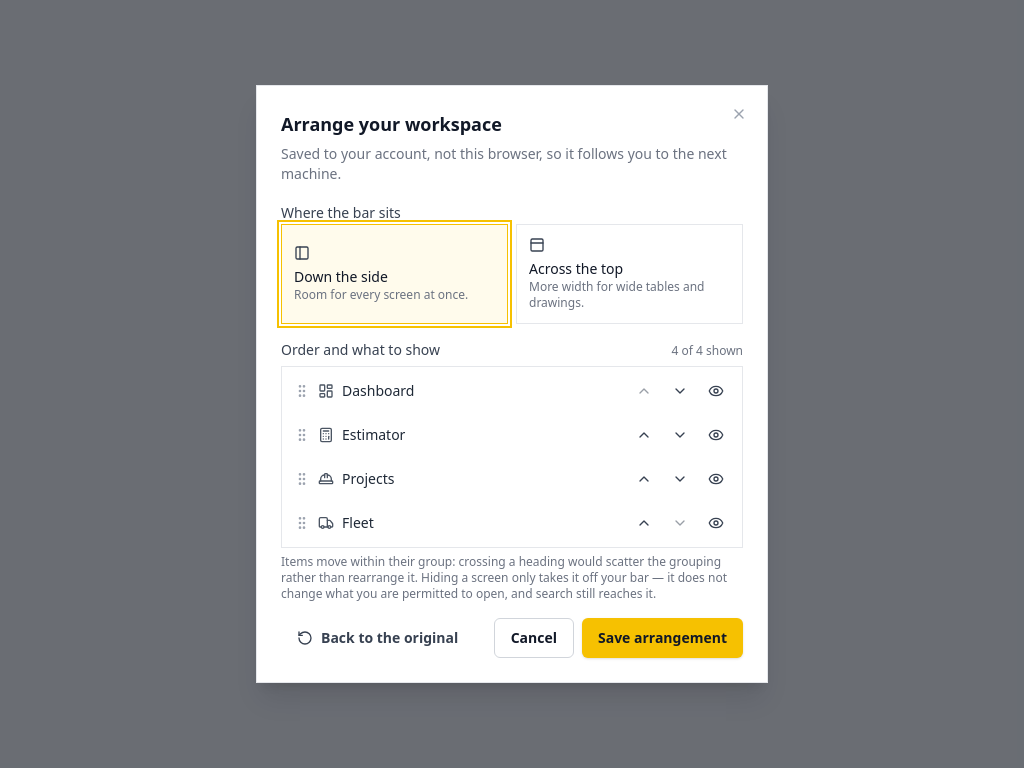
Test: the arrange dialog › hides an item without pretending it was taken away
The width and height of the screenshot is (1024, 768).
Click the button named "Hide Projects".
click(716, 479)  # box [702,465,730,493]
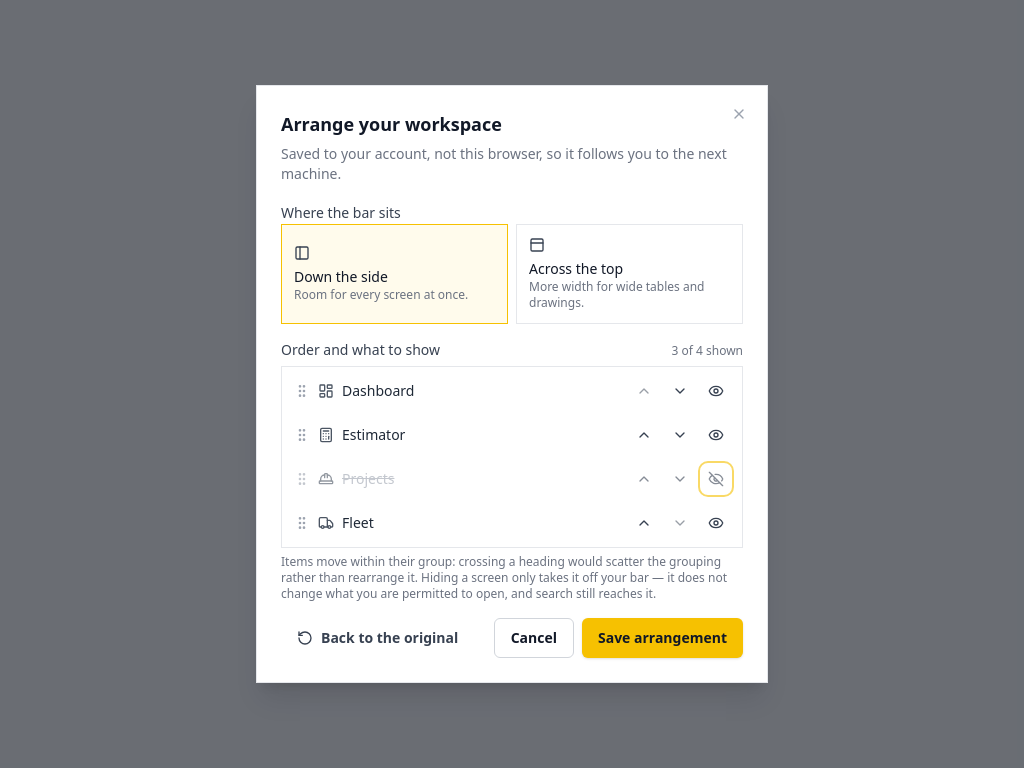
Expected: the text "does not change what you are permitted to open" is shown, [281,553,727,602]
Now the text "3 of 4 shown" is shown, box [672,343,743,359]
Now the button named "Show Projects" is shown, box [702,465,730,493]
